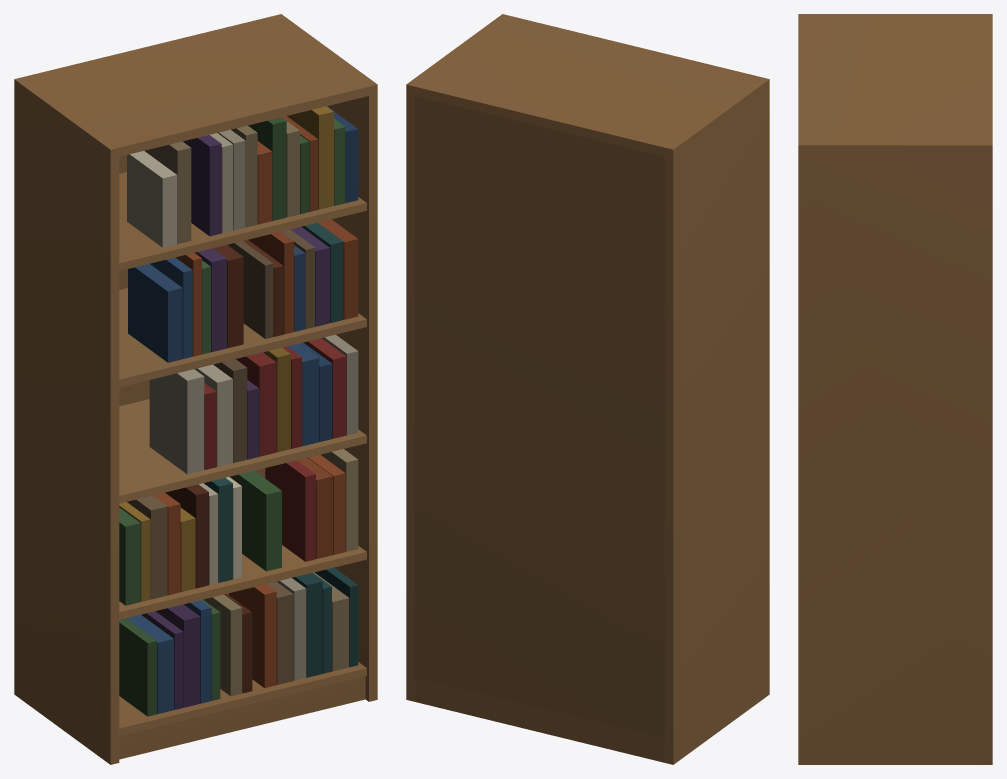
The model's file is bookcase.tall.oak.glb.
3 renders of one model, left to right at view 1: azimuth 30°, elevation 25°; view 2: azimuth 150°, elevation 25°; view 3: azimuth 270°, elevation 25°, orthographic.
Parts seen in each view (by area): view 1: bookcase_tall_oak; view 2: bookcase_tall_oak; view 3: bookcase_tall_oak.
Boxes of the visible parts, x1,y1,x2,y2 form: bookcase_tall_oak: (14,14,377,764); bookcase_tall_oak: (406,14,769,764); bookcase_tall_oak: (798,14,992,764).
Size of what is drawn, in the model's own units: 0.909 by 2 by 0.568.
